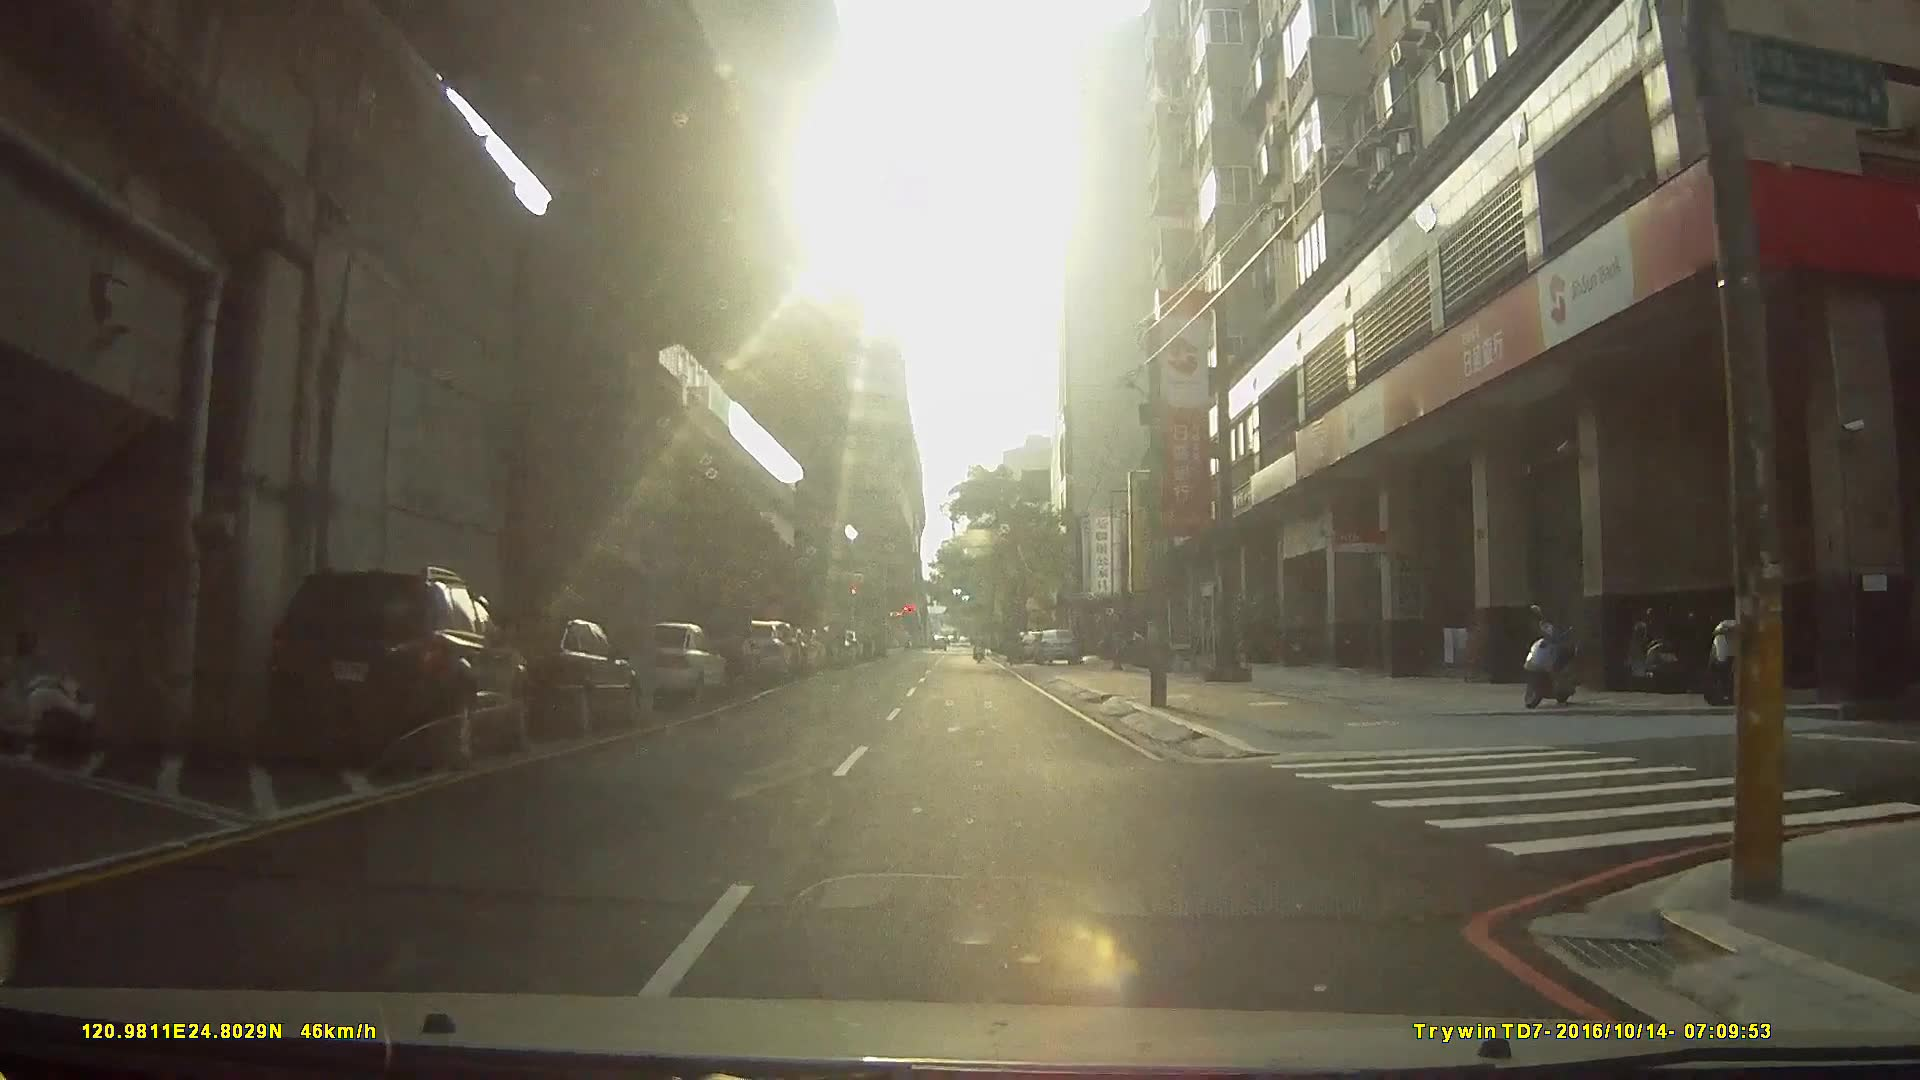vehicle: (265, 566, 531, 770), (458, 611, 641, 738), (622, 618, 729, 711), (659, 620, 794, 670), (1030, 622, 1081, 663)
